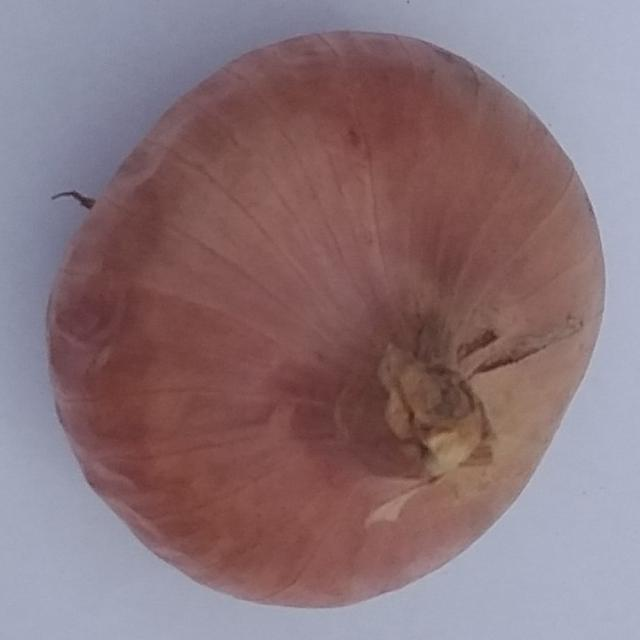onion: (43, 28, 609, 613)
